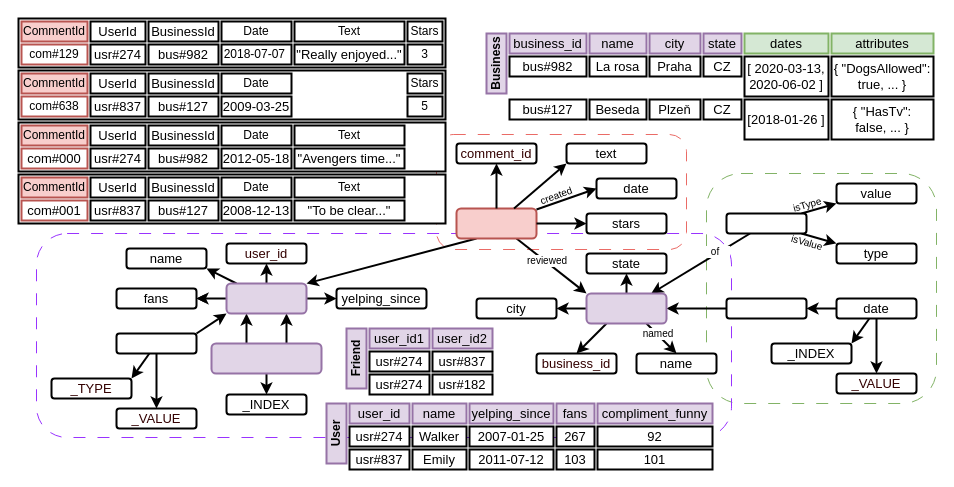
The diagram is 954 pixels wide and 487 high, and some of its shapes have lost their labels. The shapes that lost their labels are listed below. From the top down, each one's centre as x and y in pixels, then its label:
At (x=496, y=223): "Comment {comment_id}".
At (x=766, y=223): "attribute".
At (x=266, y=298): "User {user_id}".
At (x=626, y=308): "Business {business_id}".
At (x=766, y=308): "checkin".
At (x=156, y=343): "compliment".
At (x=266, y=358): "Friend {user_id, user_id}".
